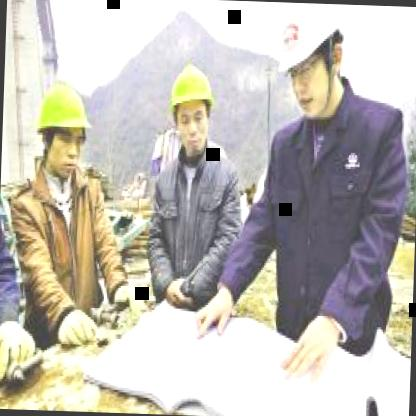helmet: (269, 3, 357, 121), (31, 68, 96, 188), (164, 59, 216, 160)
